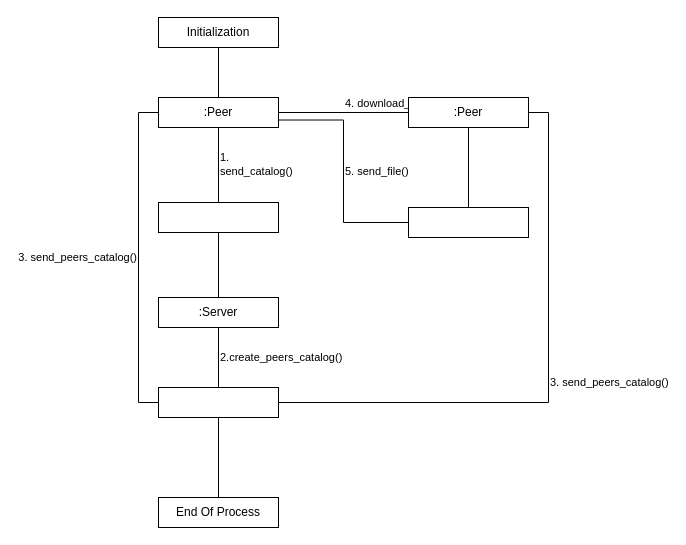
The diagram is 686 pixels wide and 545 high, and some of its shapes have lost their labels. Here are the shapes that lost their labels. From the top down, the centre of each, then its label:
At (218,217): ":Files_Catalog".
At (468,222): ":File".
At (218,402): ":Peers_Catalog".
